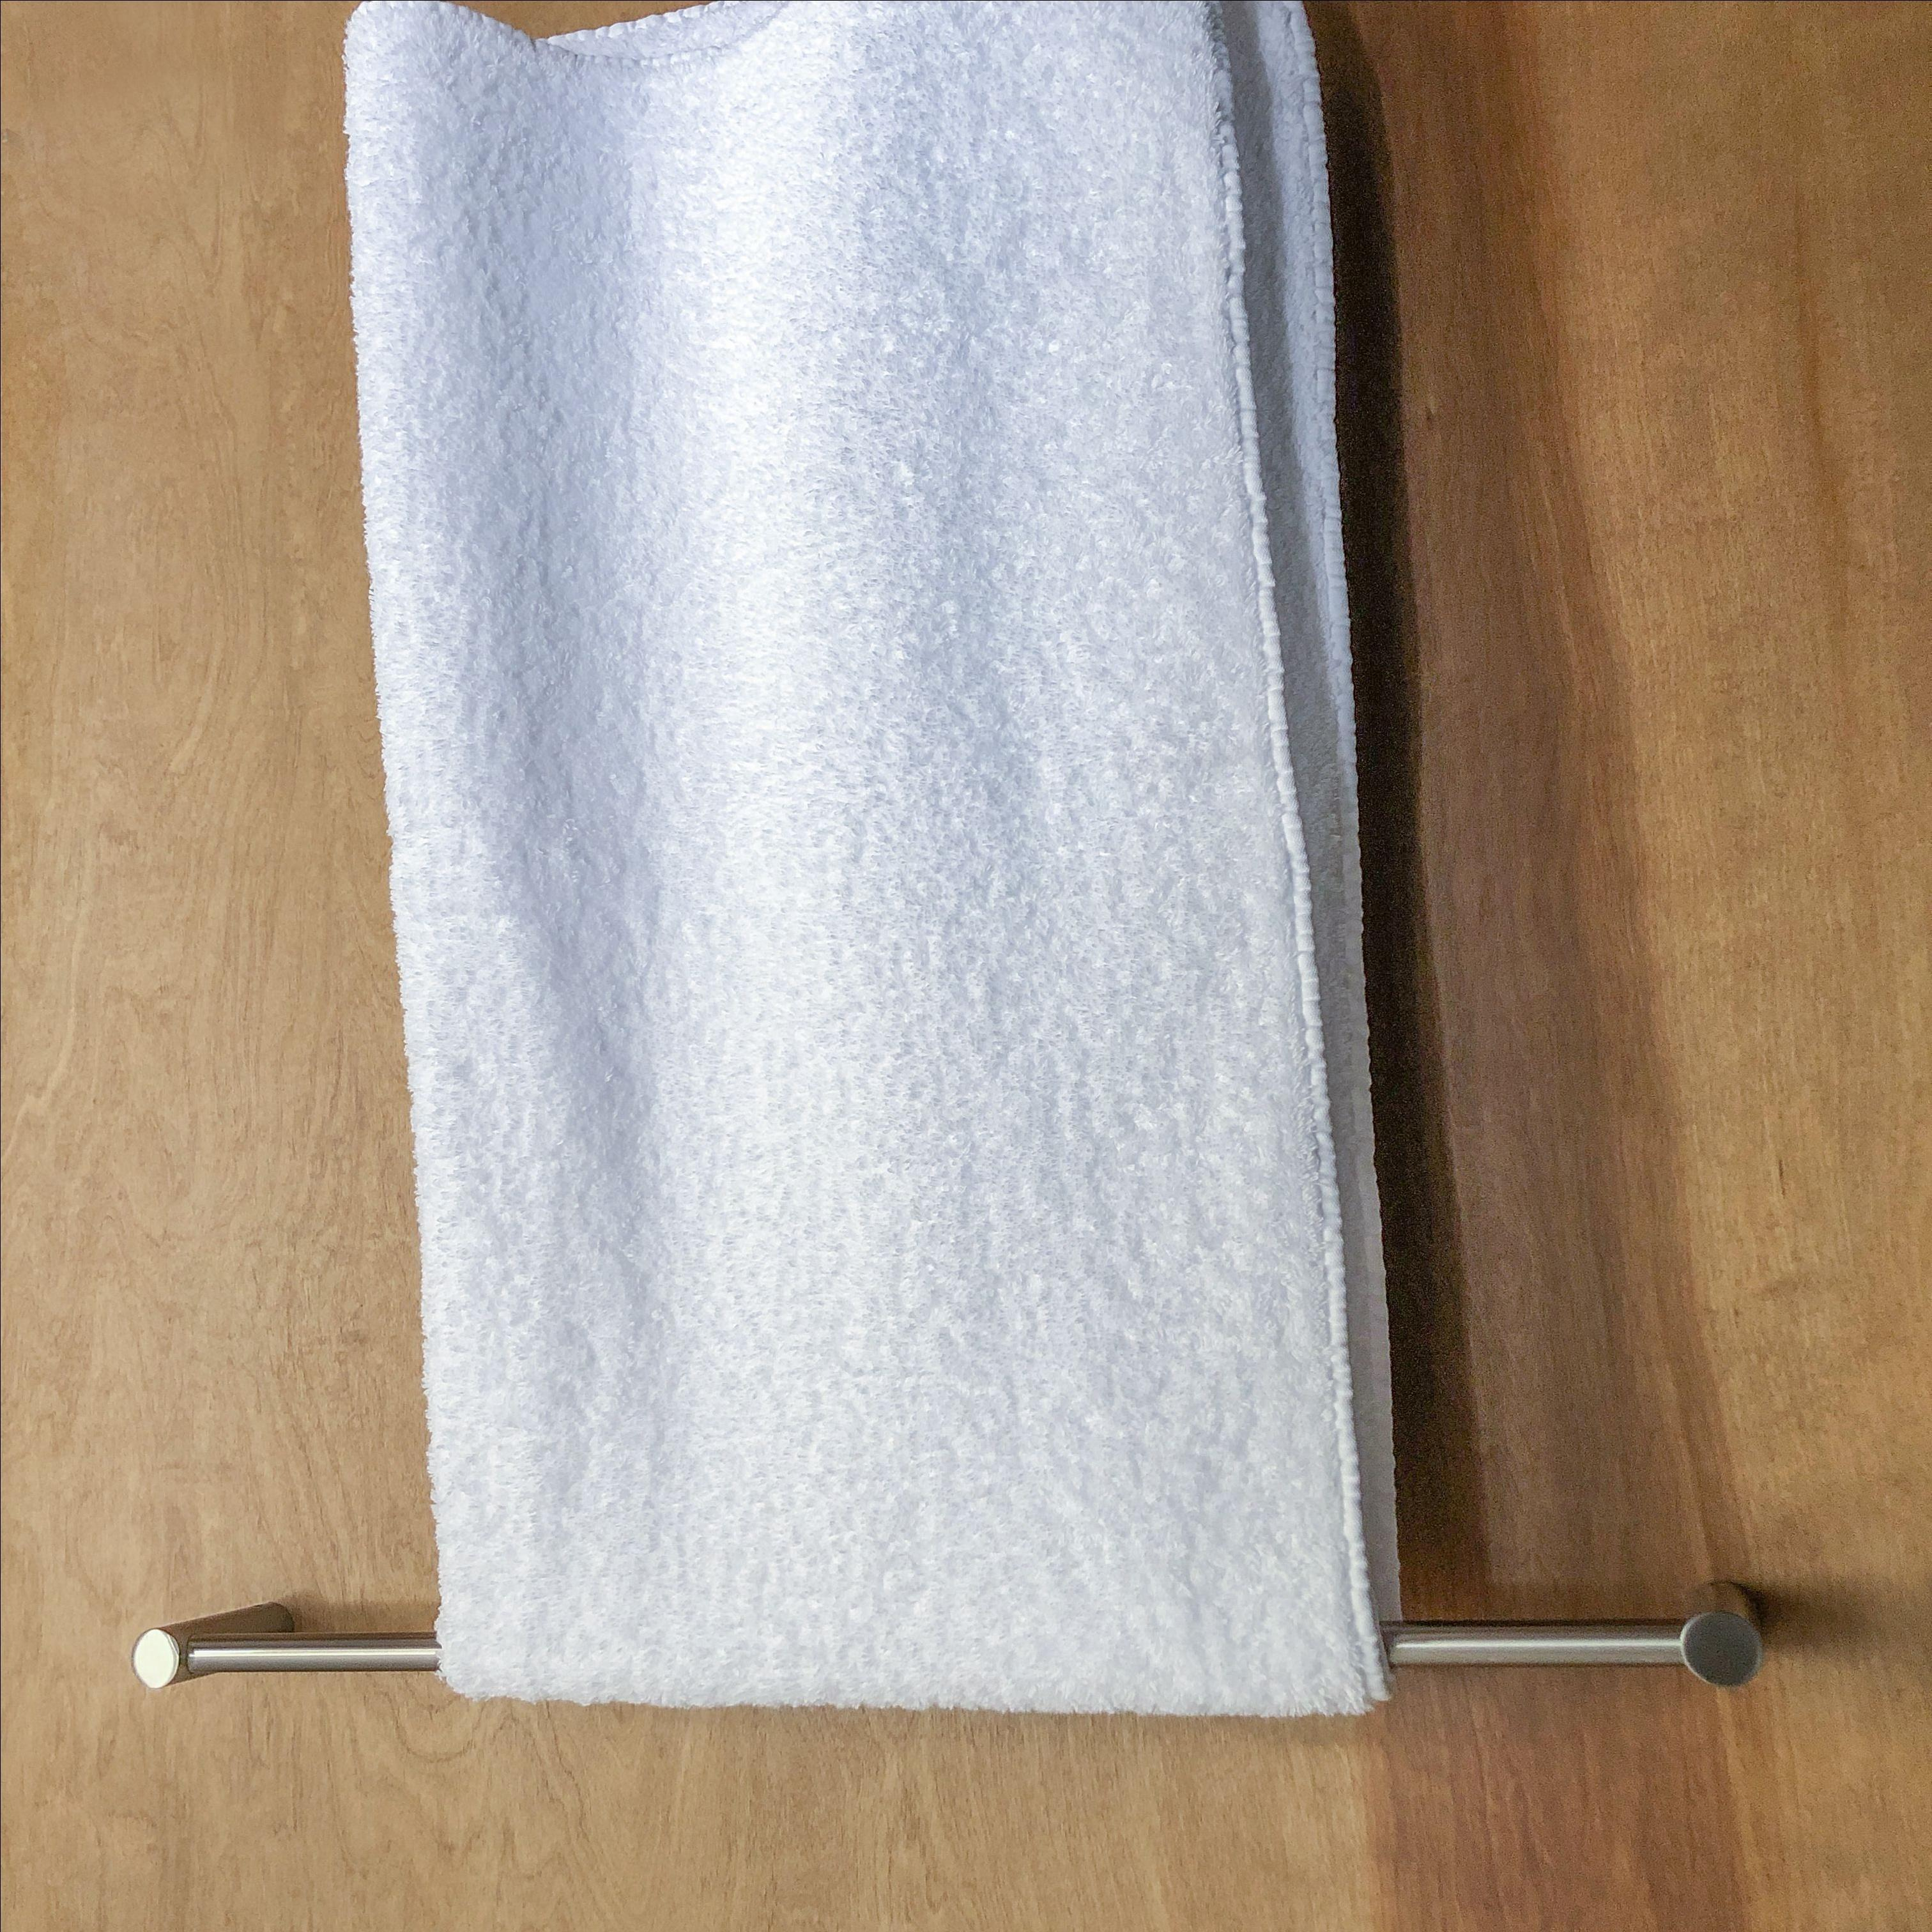towel: (281, 25, 1507, 1852)
